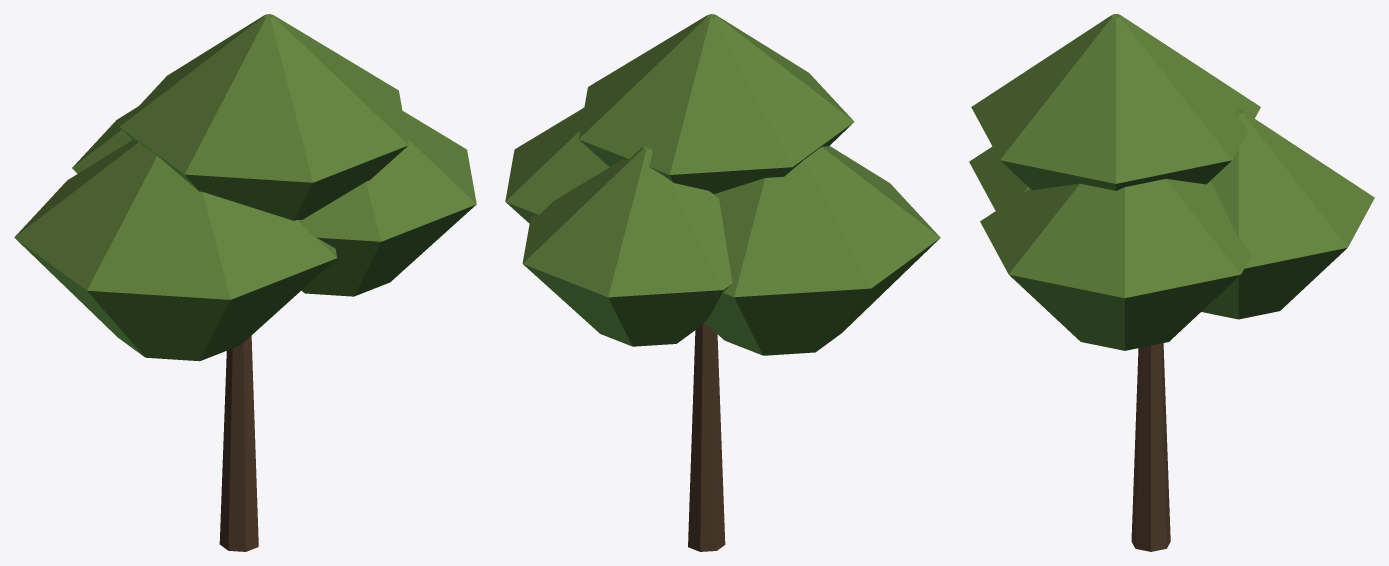
Rendered from mesquite.glb.
3 views of the same model, side by side, from view 1: azimuth 30°, elevation 25°; view 2: azimuth 150°, elevation 25°; view 3: azimuth 270°, elevation 25° (orthographic). The views are drawn at different scales.
Parts seen in each view (by area): view 1: mesquite; view 2: mesquite; view 3: mesquite.
Part boxes in pixels (x1,y1,x2,y2): mesquite: (14, 14, 476, 551); mesquite: (505, 14, 940, 551); mesquite: (969, 14, 1374, 551).
Size of the model in its own units: 5.41 by 6.73 by 4.64.
